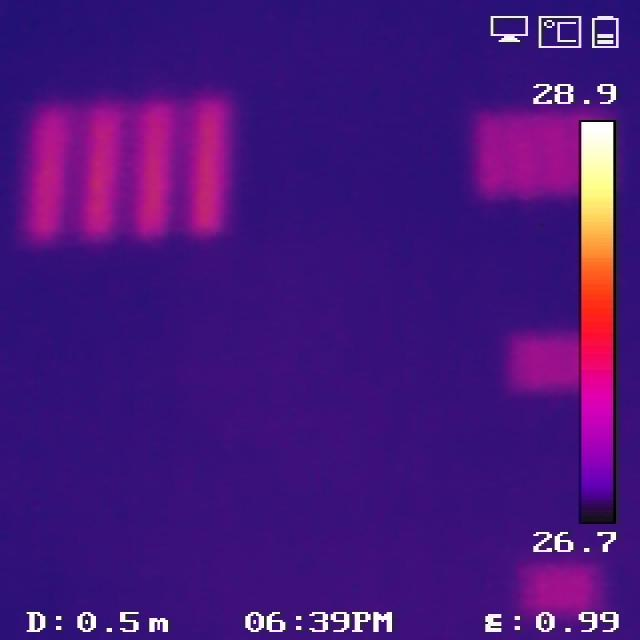Distinguishable 4-bar target: (21, 97, 239, 245)
Indistinguishable 4-bar target: (515, 325, 608, 398), (524, 567, 605, 611)
threshold 4-bar target: (482, 108, 602, 205)
